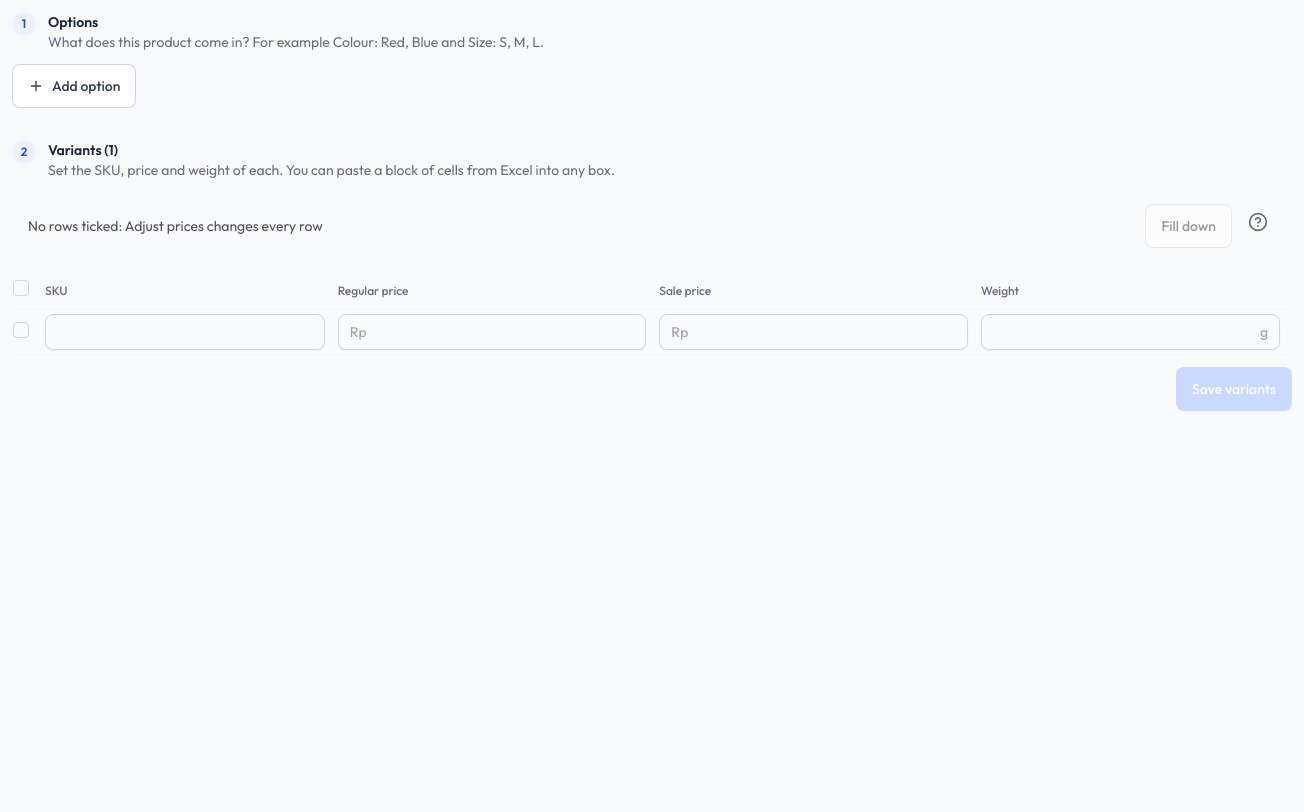
VariantMatrix (P1-046) › adds option values on comma and on leaving the box, not only Enter
Click the button "Add option" at (74, 86), box [12,64,136,108]
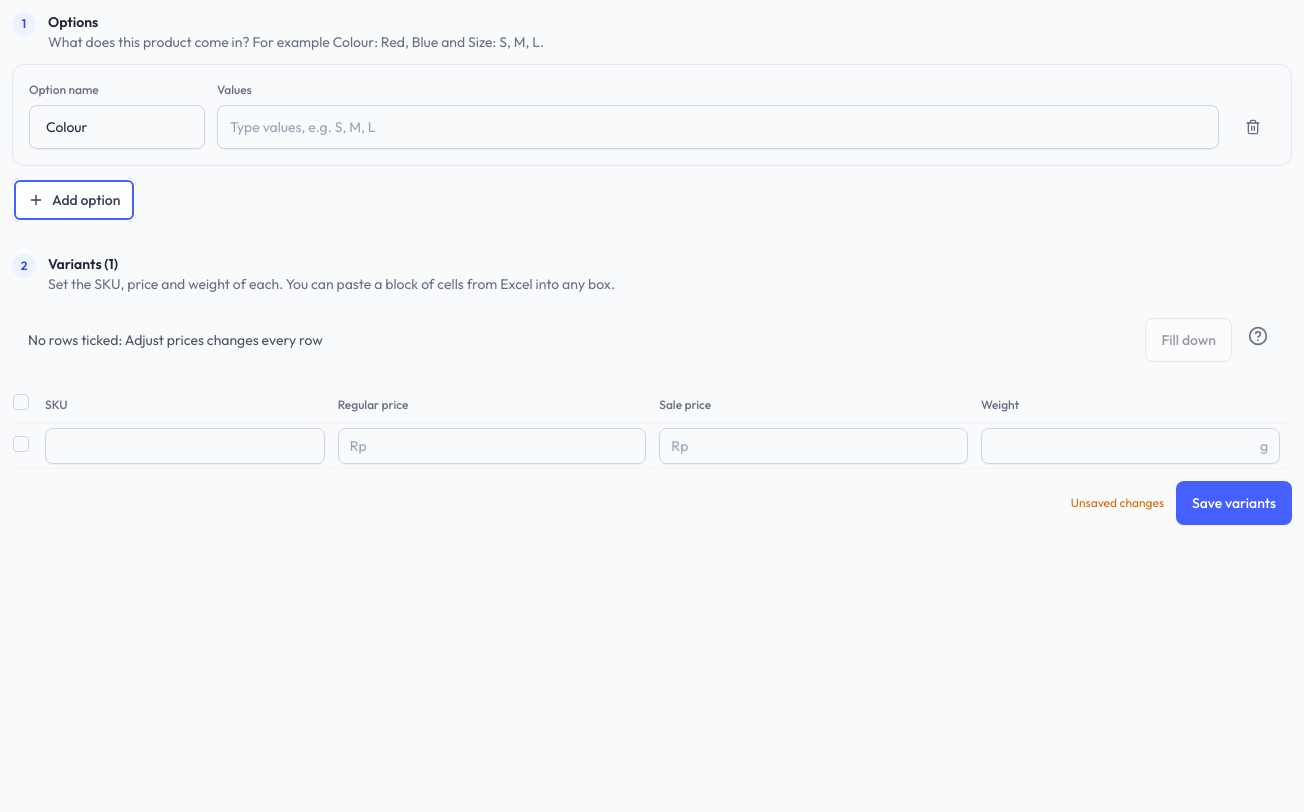
Type "Red, Blue," into the field named "Add a Colour value" at (718, 127), box [226,113,1210,141]
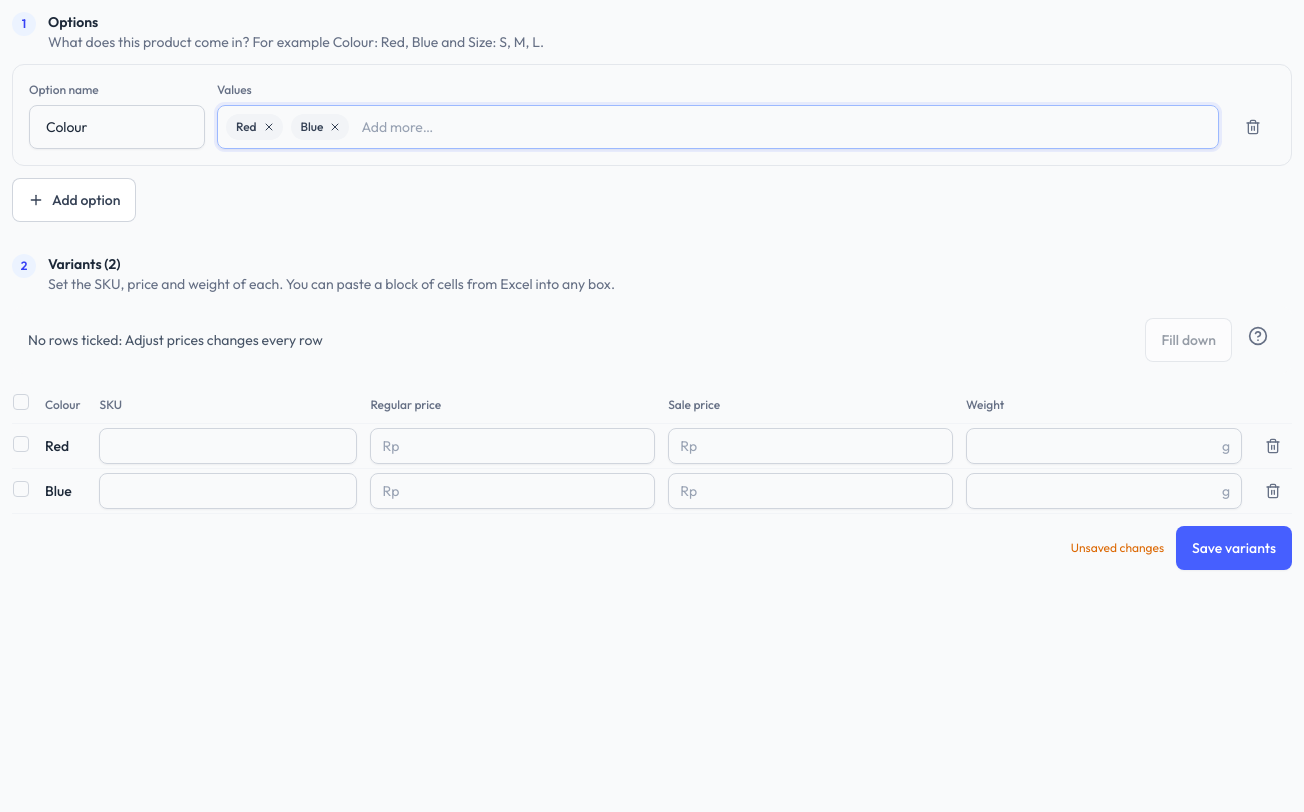
Click the button "Add option" at (74, 200), box [12,178,136,222]
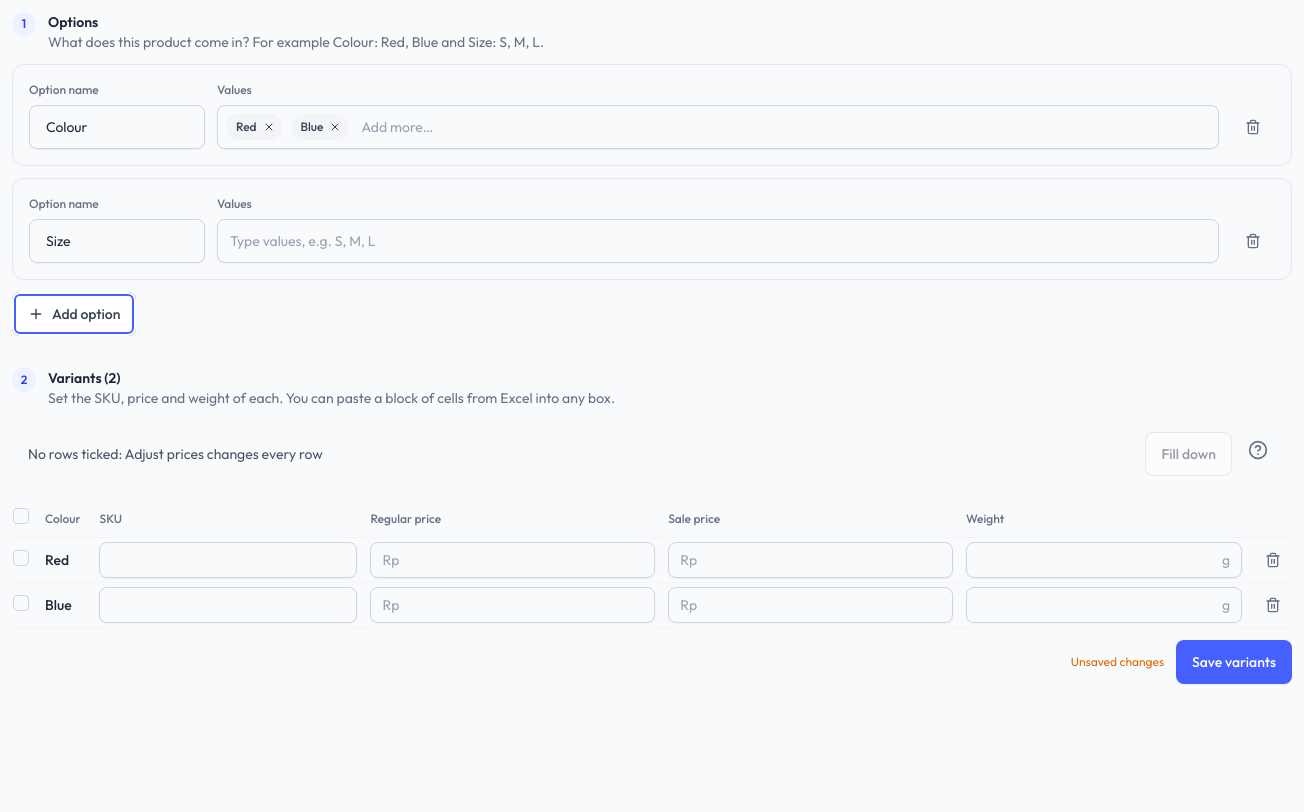
Type "M" into the field named "Add a Size value" at (718, 241), box [226,227,1210,255]
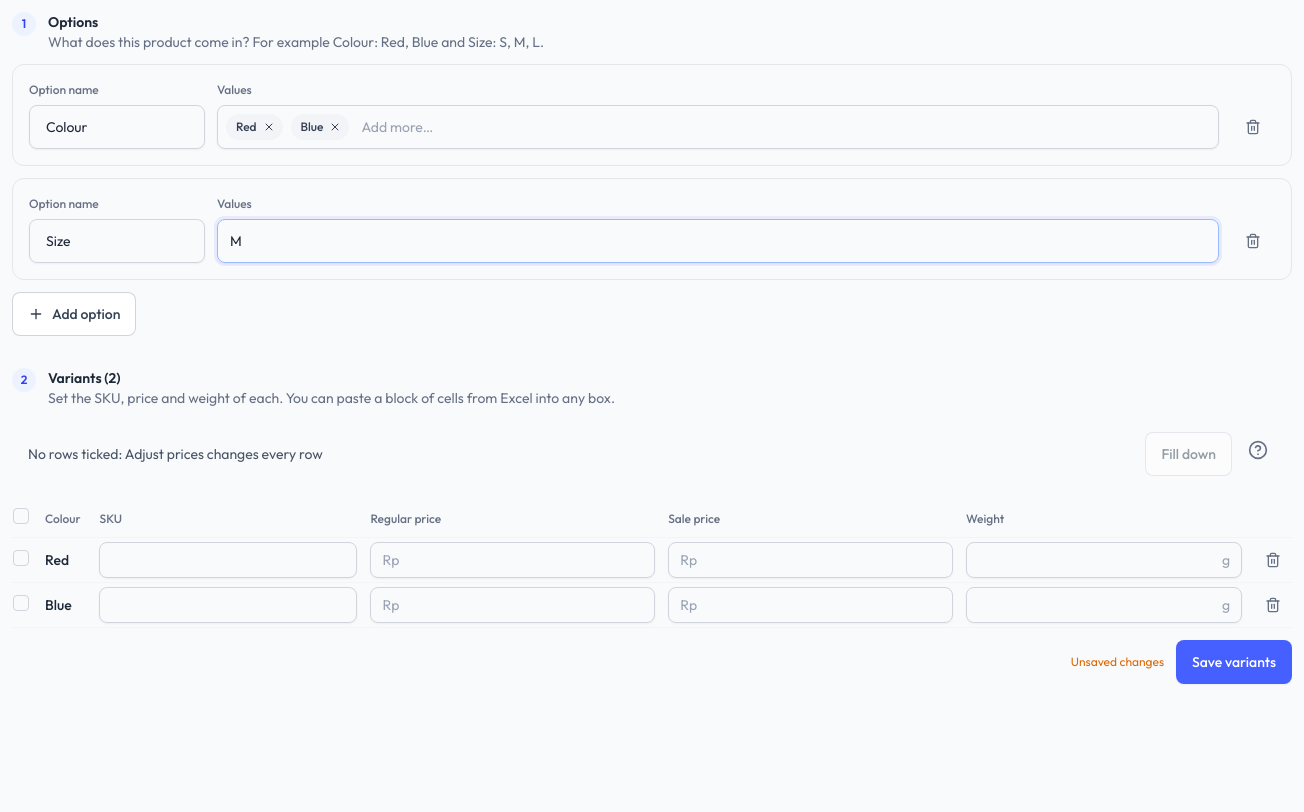
Press Tab
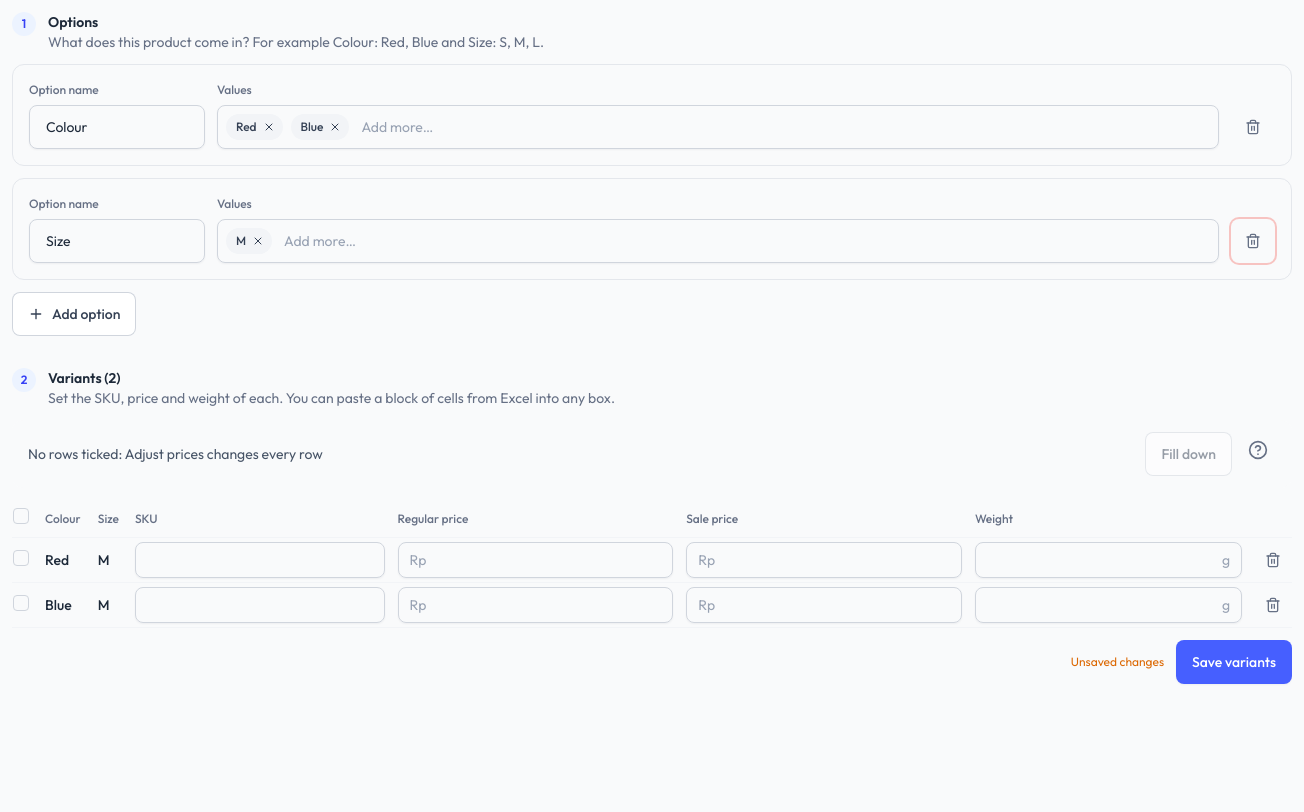
Check: the heading "Variants (2)" is shown, box [48,369,121,387]
Check: the field named "SKU for Blue / M" is shown, box [135,587,384,623]
